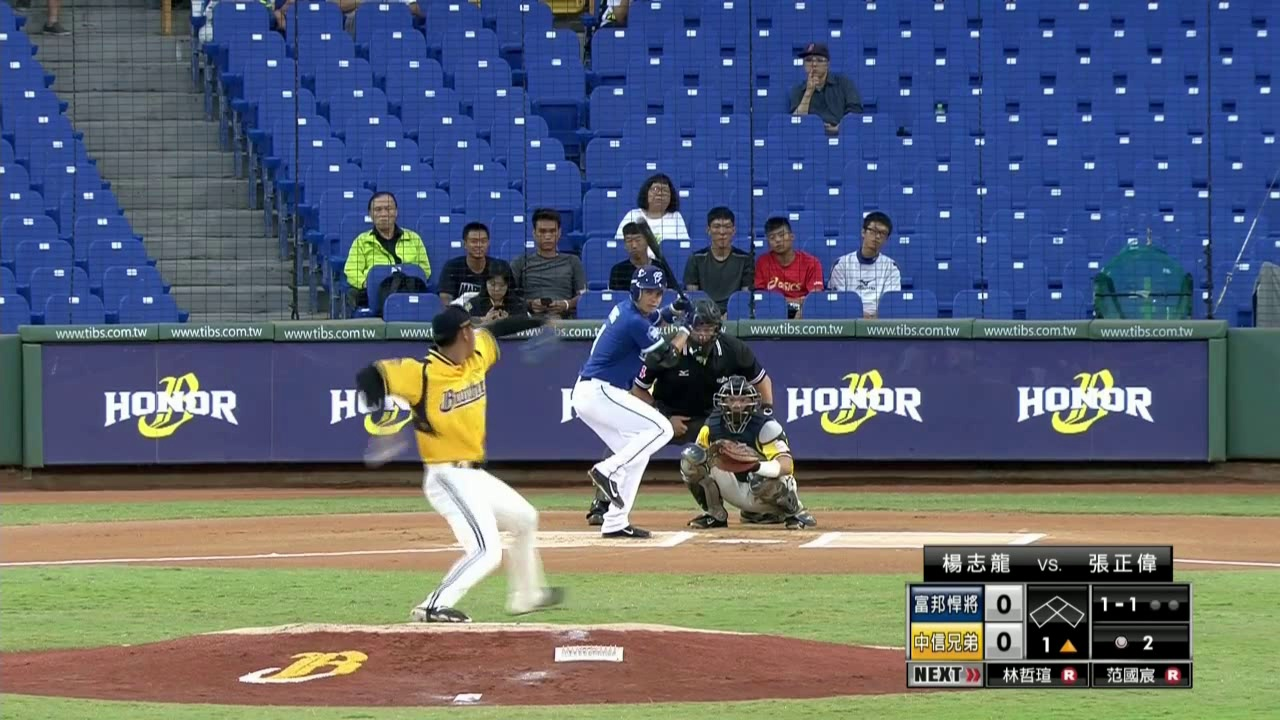ball: (361, 441, 408, 468)
base: (1027, 590, 1087, 629)
bat: (631, 213, 696, 318)
out: (1145, 596, 1181, 612)
score1: (984, 583, 1023, 620)
score2: (985, 623, 1022, 658)
session: (1039, 633, 1079, 654)
strikeball: (1098, 593, 1139, 614)
total: (1108, 630, 1161, 653)
